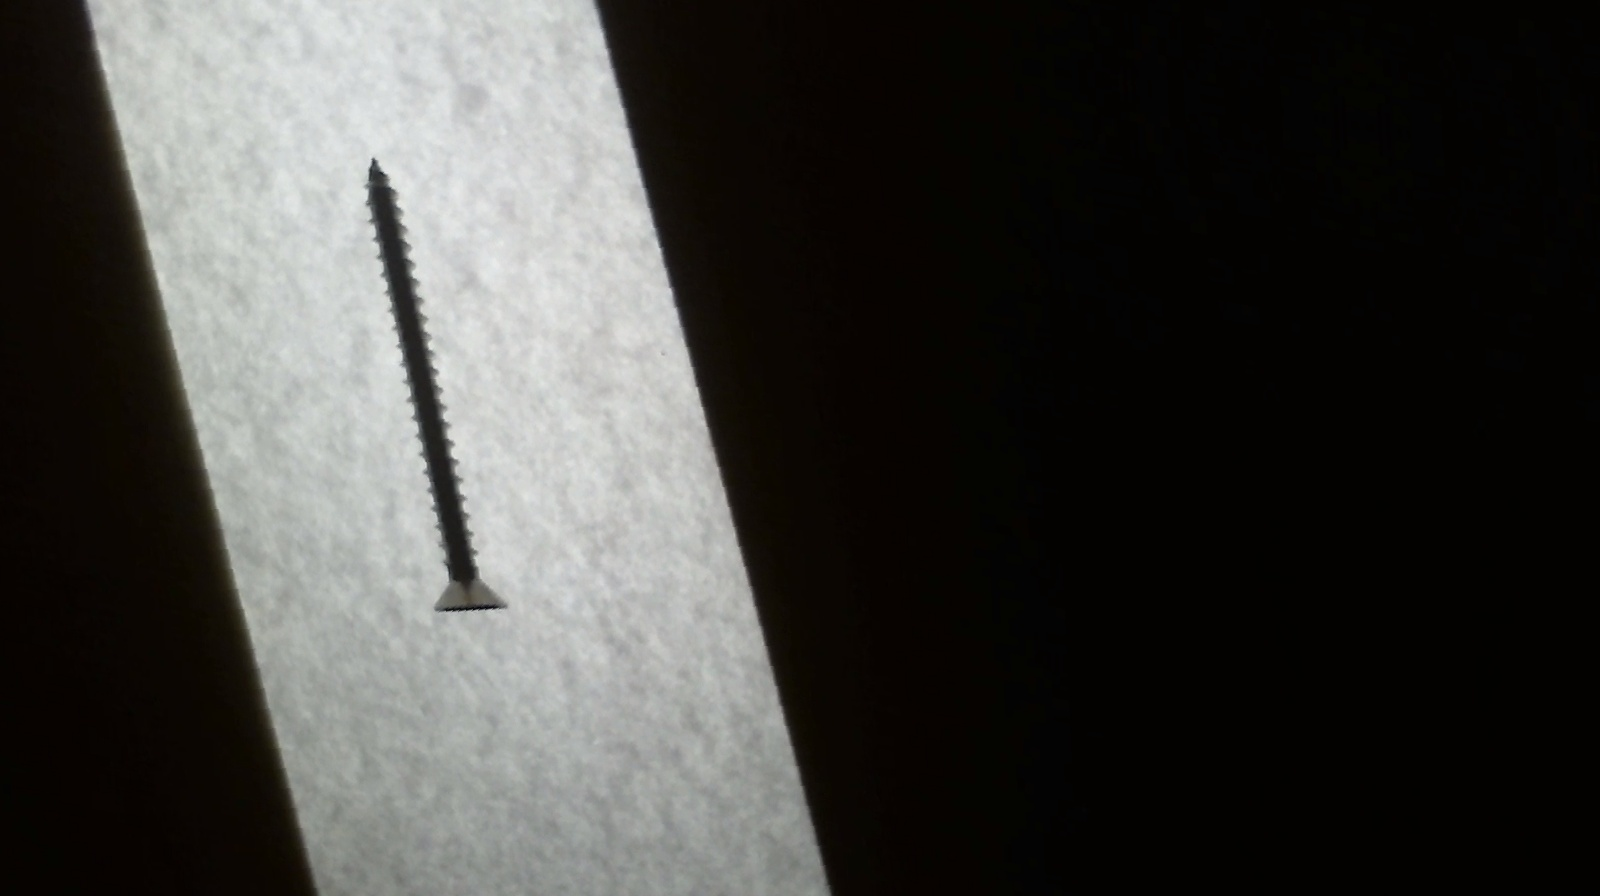S002: (348, 150, 512, 640)
